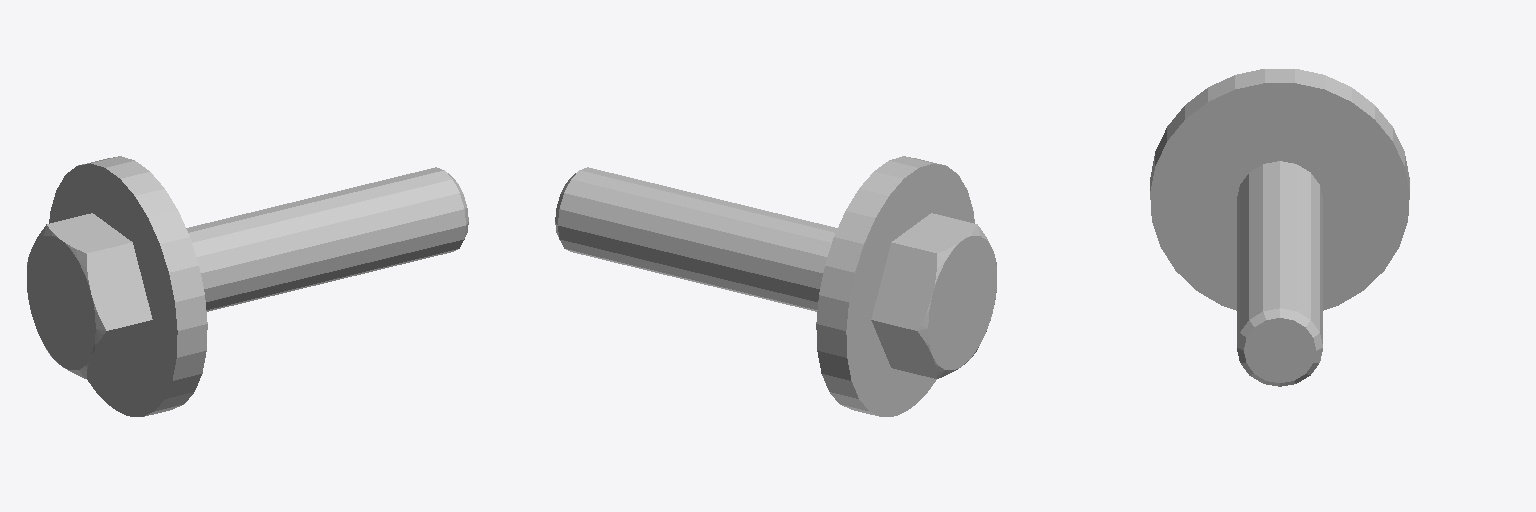
File: Болт крепления с шайбой в сборе.obj
The picture shows the model from 3 angles: view 1: azimuth 30°, elevation 25°; view 2: azimuth 150°, elevation 25°; view 3: azimuth 270°, elevation 25°; orthographic projection.
Parts seen in each view (by area): view 1: Болт_крепления_с_шайбой_в_сборе; view 2: Болт_крепления_с_шайбой_в_сборе; view 3: Болт_крепления_с_шайбой_в_сборе.
Boxes of the visible parts, <box> form: Болт_крепления_с_шайбой_в_сборе: <box>27,156,468,416</box>; Болт_крепления_с_шайбой_в_сборе: <box>555,156,996,416</box>; Болт_крепления_с_шайбой_в_сборе: <box>1150,69,1409,386</box>.
Bounding box in the file's own units: 51.85 × 29.9 × 29.95.